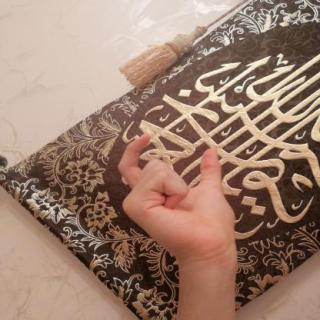NOON: (104, 128, 248, 264)
